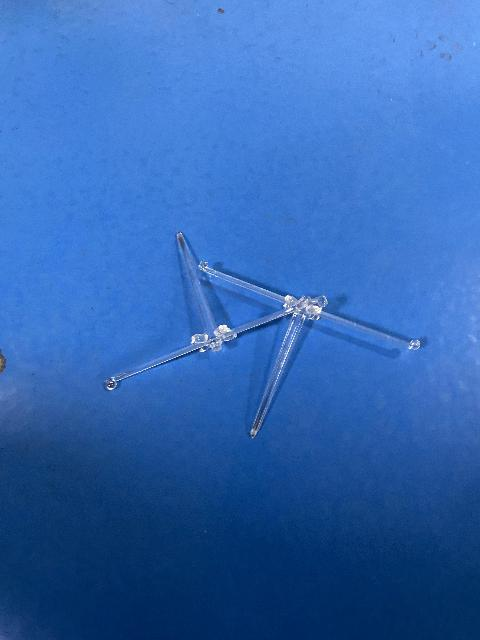Plastik: (197, 252, 421, 435), (100, 227, 314, 392)
